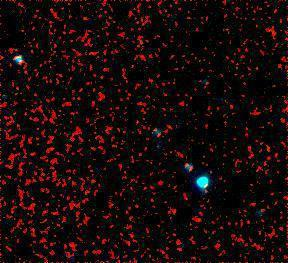star: (191, 170, 221, 200)
